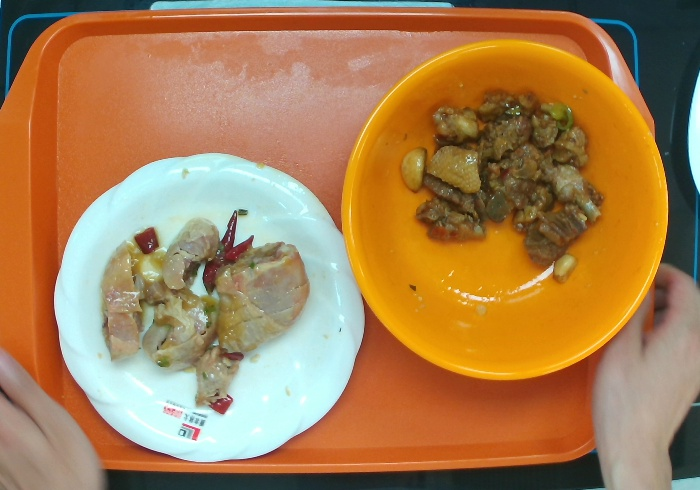ZNLD-Hua_Bian_Wan: (49, 146, 371, 468)
ZNLD-Ju_Se_Tang_Wan: (333, 30, 674, 382)
